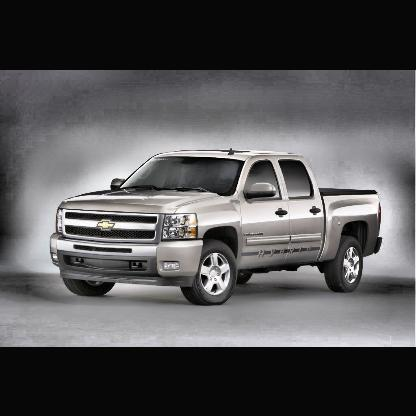Chevrolet Silverado 1500 Hybrid Crew Cab 2012: (49, 149, 383, 308)
